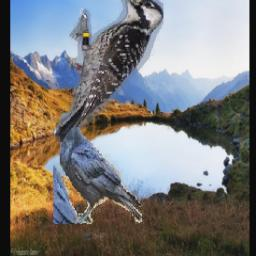Crow: (54, 113, 145, 225)
Woodpecker: (57, 0, 164, 142)
